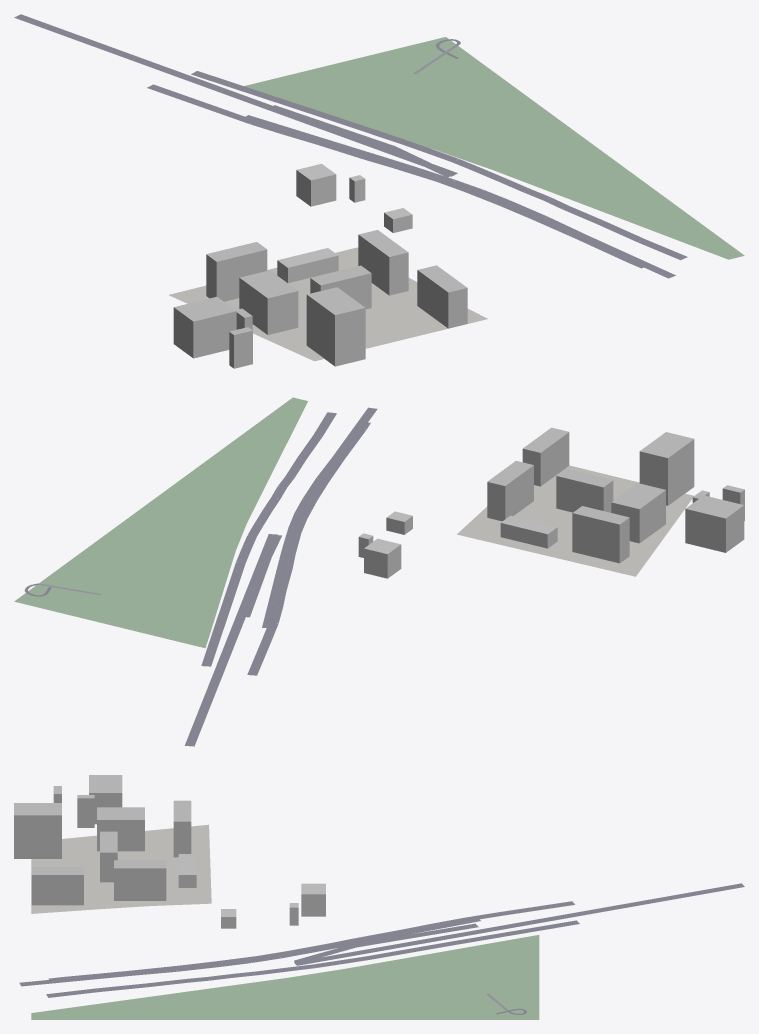
Rendered from 135_98_mid.glb.
3 views of the same model, one above another, from view 1: azimuth 30°, elevation 25°; view 2: azimuth 150°, elevation 25°; view 3: azimuth 270°, elevation 25° (orthographic). The views are drawn at different scales.
Bounding box in the file's own units: 500 × 47.8 × 720.
